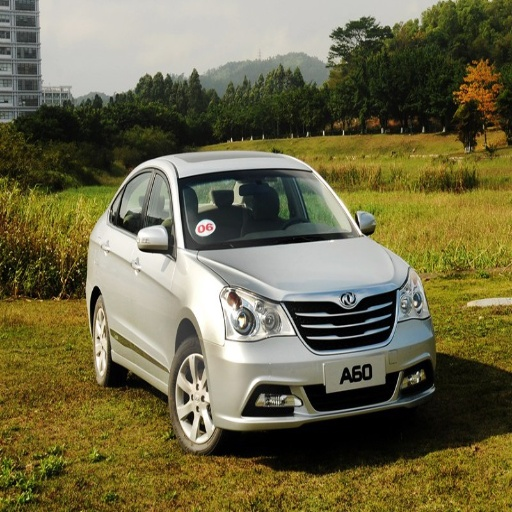front_bumper: (204, 287, 430, 427)
front_right_door: (131, 167, 175, 368)
front_right_light: (219, 283, 291, 340)
hood: (199, 235, 410, 301)
